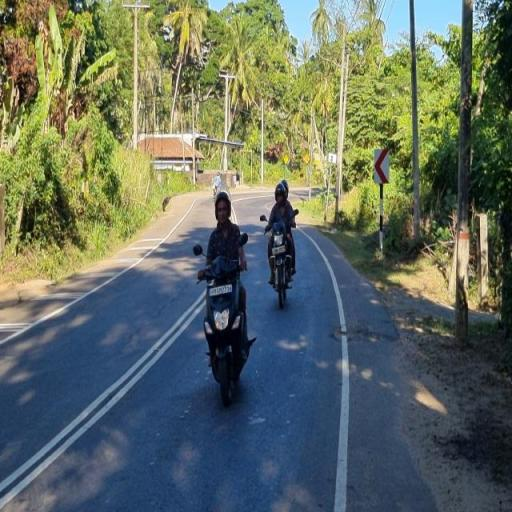double_white_line: (0, 291, 206, 508)
